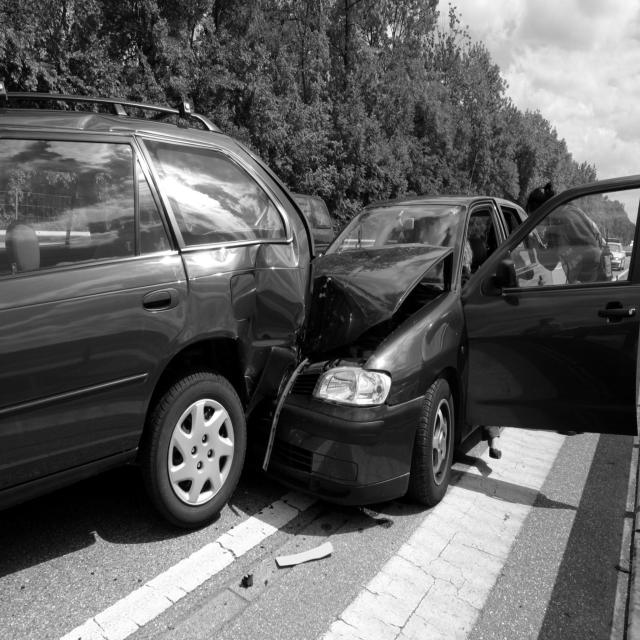crush: (263, 246, 453, 471)
dent: (229, 224, 307, 379)
misalignment: (253, 158, 316, 301), (248, 369, 264, 405)
